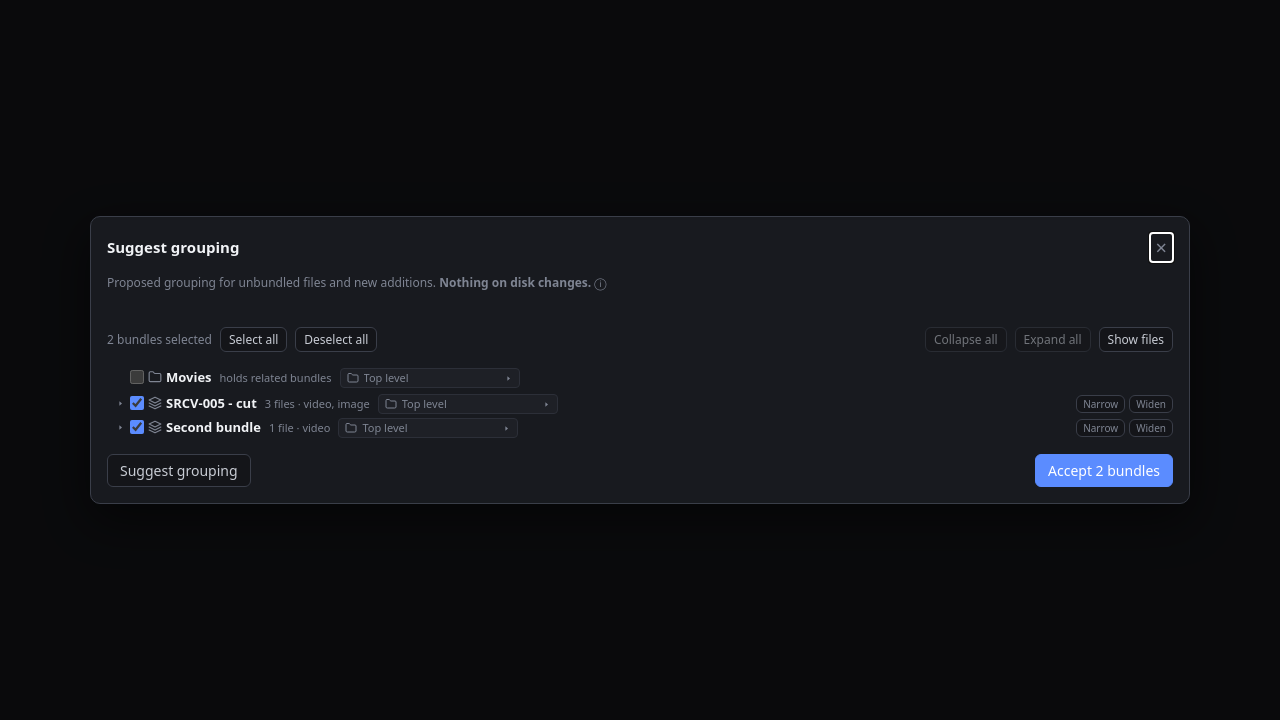
Test: accepting keeps the review open on what is left
Note: Skip one row, accept the rest.
Click the checkbox named "Accept Second bundle".
click(137, 427)  # box 130,420 -> 144,434
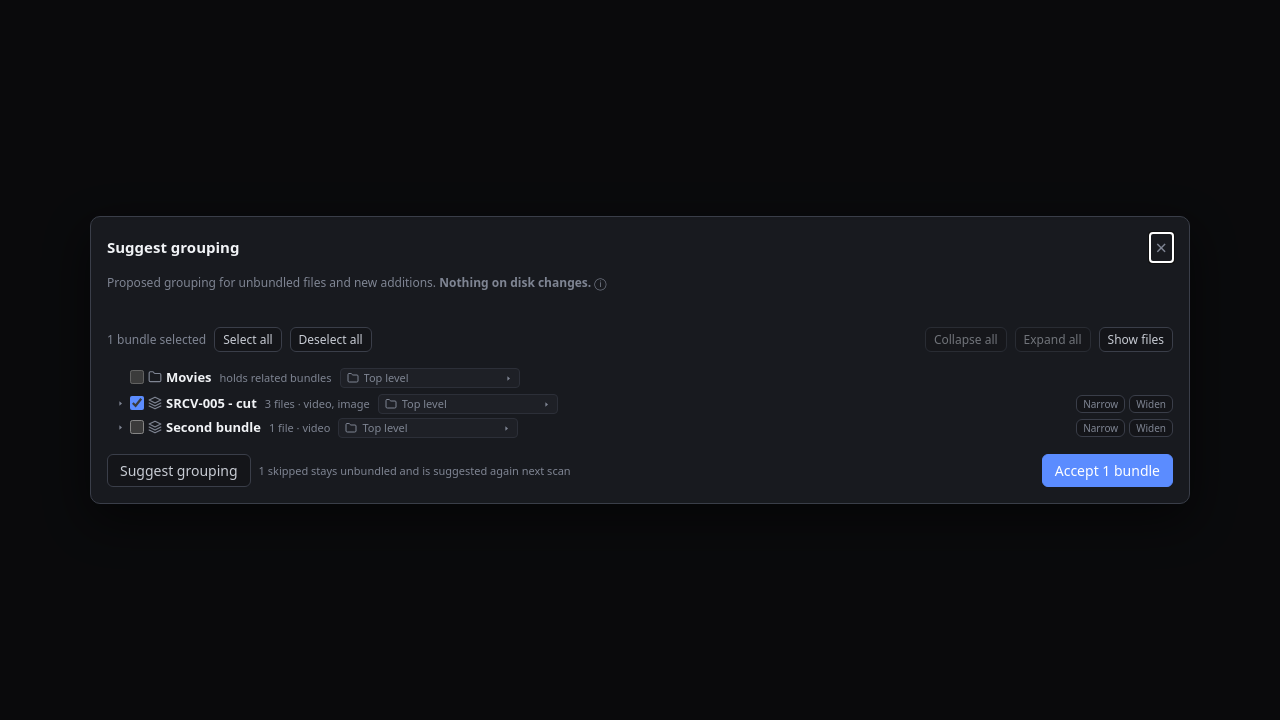
Result: the text "1 bundle selected" is shown at 107,331 -> 206,348
Click the button "Accept 1 bundle".
click(1107, 471)  # box 1042,454 -> 1173,487
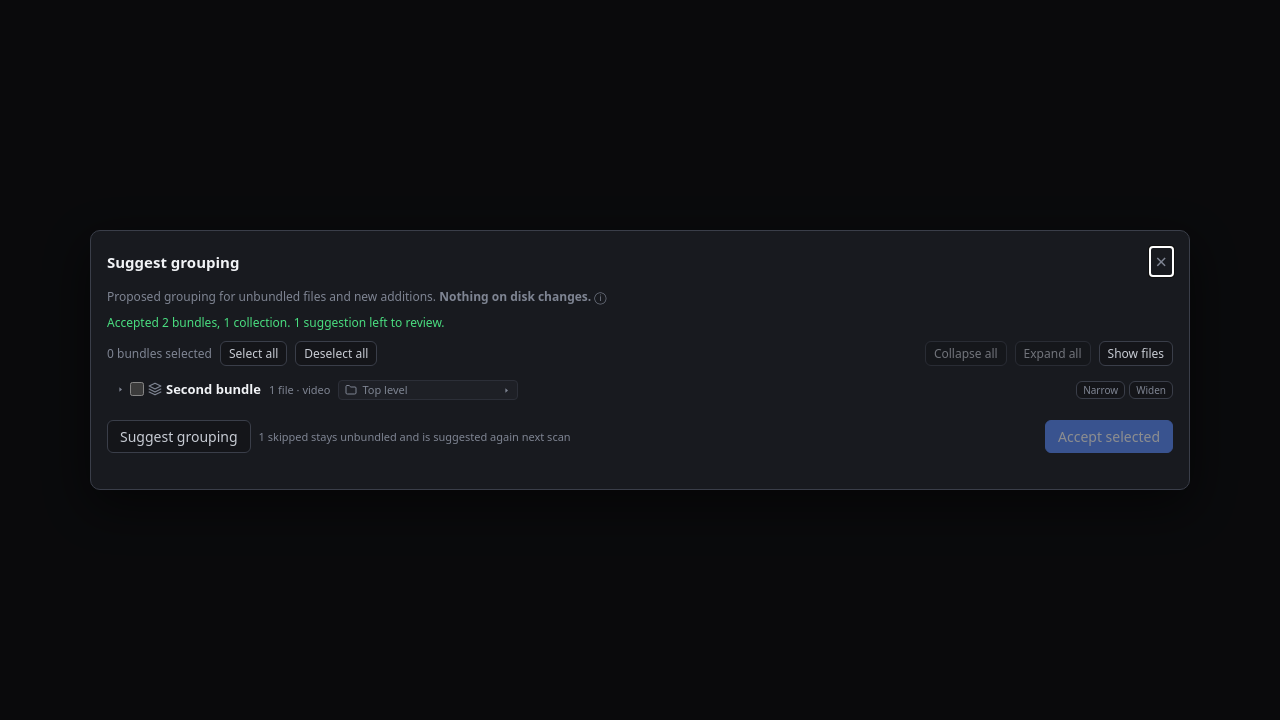
Expected: the button "Accept selected" is shown, 1045,420 -> 1173,453
Result: the text "Accepted 2 bundles, 1 collection. 1 suggestion left to review." is shown at 107,314 -> 445,331
